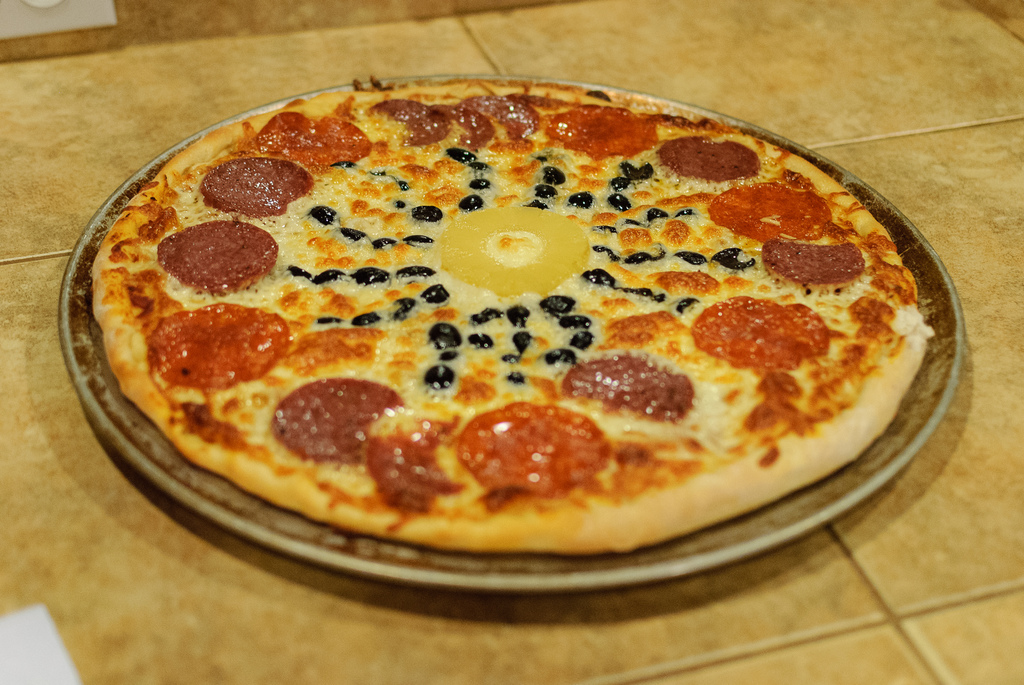pizza: (49, 61, 941, 571)
